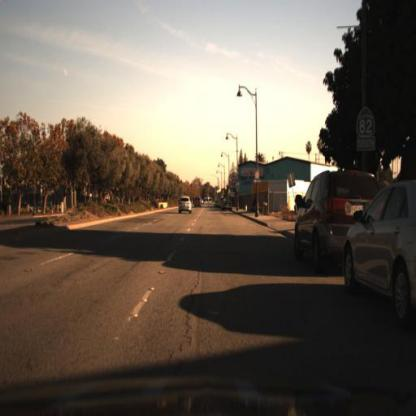car: (342, 180, 416, 328), (293, 172, 383, 271), (174, 191, 194, 217), (192, 193, 206, 212), (224, 197, 234, 212)
